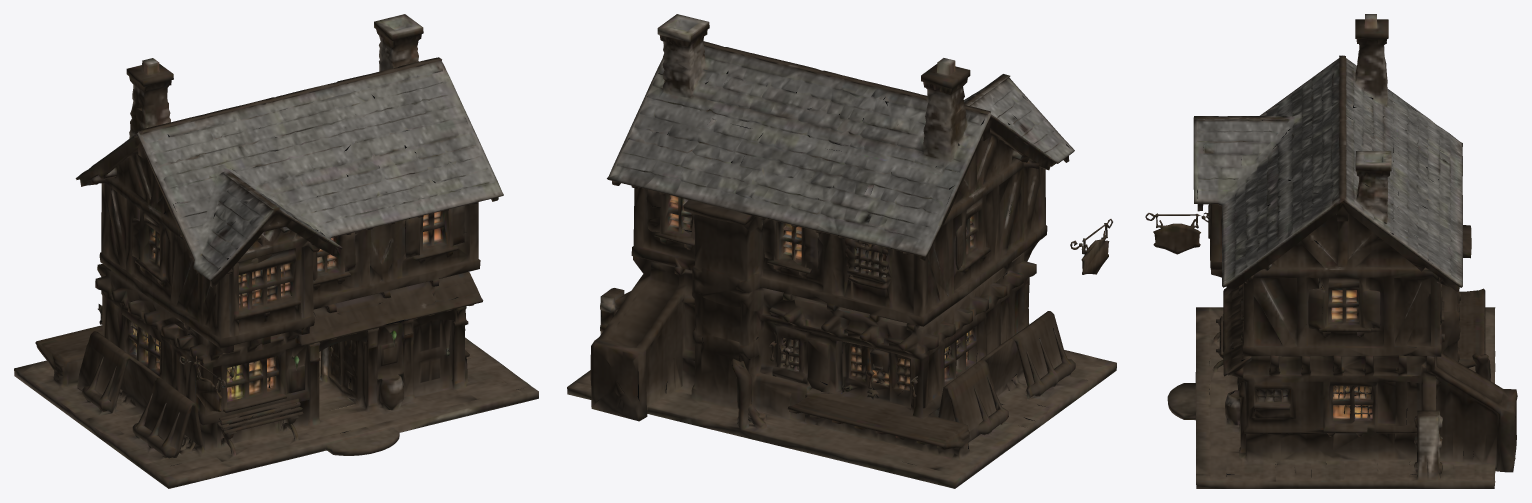
Rendered from tavern_dark_roof.glb.
3 views of the same model, side by side, from view 1: azimuth 30°, elevation 25°; view 2: azimuth 150°, elevation 25°; view 3: azimuth 270°, elevation 25° (orthographic). The views are drawn at different scales.
Parts seen in each view (by area): view 1: tavern_dark_roof; view 2: tavern_dark_roof; view 3: tavern_dark_roof.
Boxes of the visible parts, x1,y1,x2,y2 form: tavern_dark_roof: (14,14,538,488); tavern_dark_roof: (567,14,1116,488); tavern_dark_roof: (1145,14,1517,488).
Bounding box in the file's own units: 11.27 × 10 × 10.16.
Materials: 1 (1 with a texture image).
